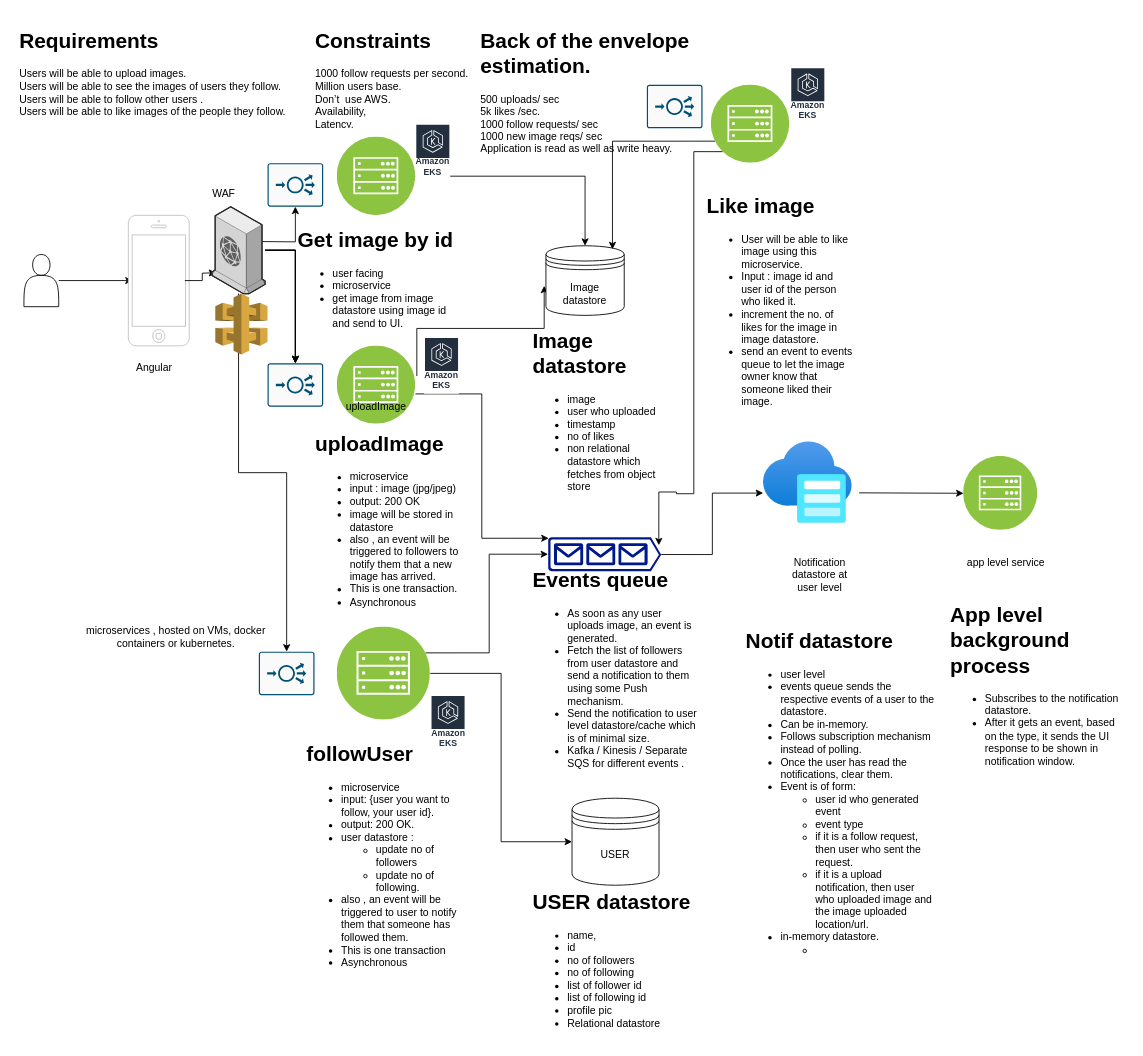
Image size: 1143x1056. Some labels were removed from this diagram. Each missing label, with the centre of its shape:
"followUser" goes at pixel 383 672.
"getImage / image-id" goes at pixel 376 176.
"UI" goes at pixel 158 280.
